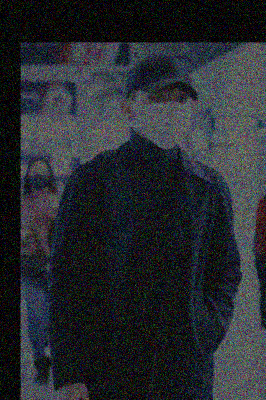with_mask: (136, 88, 192, 150), (27, 163, 51, 189)
